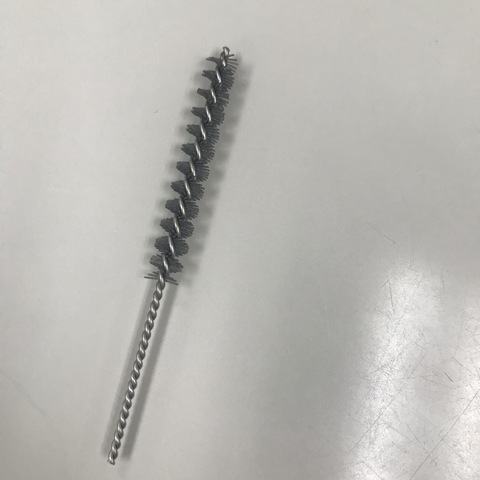Twist Brush-A: (105, 45, 240, 466)
